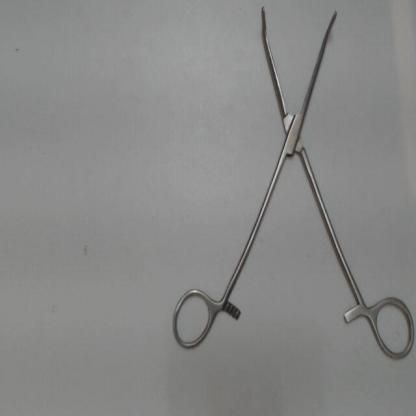Lahey Forceps: (168, 1, 415, 367)
